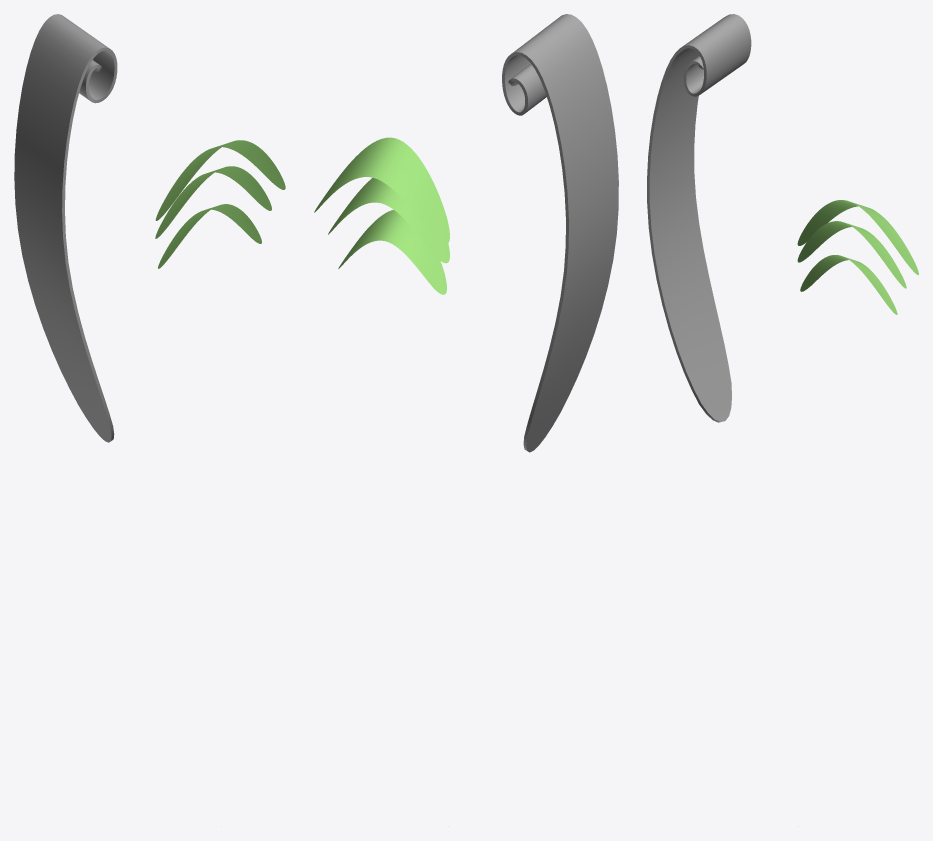
The model's file is kaleidoscope-color.glb.
The picture shows the model from 3 angles, left to right: view 1: azimuth 30°, elevation 25°; view 2: azimuth 150°, elevation 25°; view 3: azimuth 330°, elevation 25°; orthographic projection. The views are drawn at different scales.
Parts seen in each view (by area): view 1: Plane.004, Plane.018, Plane.017, Plane.016; view 2: Plane.004, Plane.018, Plane.016, Plane.017; view 3: Plane.004, Plane.018, Plane.017, Plane.016.
Part boxes in pixels (<box>): Plane.004: <box>14,14,117,442</box>; Plane.018: <box>155,140,285,220</box>; Plane.017: <box>155,166,271,238</box>; Plane.016: <box>158,204,261,268</box>; Plane.004: <box>502,14,618,452</box>; Plane.018: <box>314,137,449,244</box>; Plane.016: <box>338,210,446,294</box>; Plane.017: <box>328,178,449,263</box>; Plane.004: <box>647,14,751,422</box>; Plane.018: <box>797,200,918,275</box>; Plane.017: <box>797,221,906,288</box>; Plane.016: <box>800,255,897,314</box>.
Size of what is drawn, in the model's own units: 1.49 by 4.5 by 0.5882.
